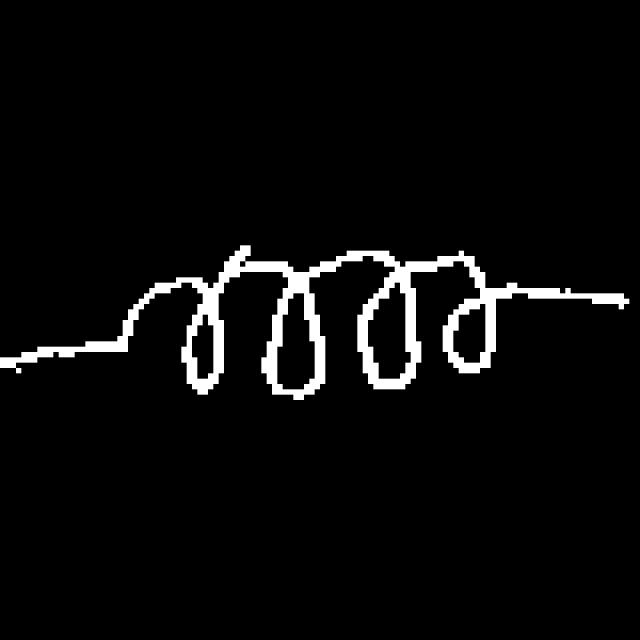inductor: (109, 237, 521, 415)
